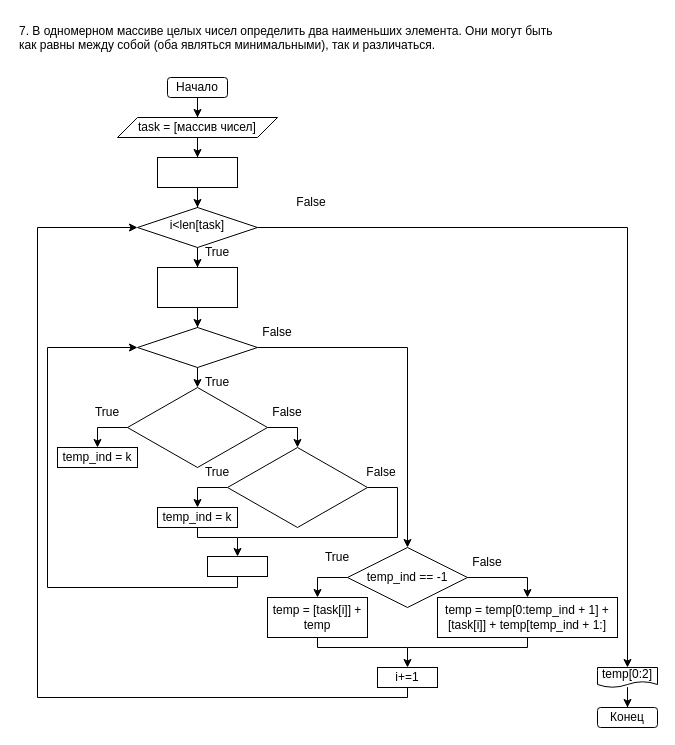
Some shapes in this 675 by 745 pixel diagram are drawn without their labels. Here are the shapes that lost their labels. From the top down, the box of each, then its label:
(156, 156, 238, 188): temp = [ ] i=0
(156, 266, 238, 308): temp_ind = -1 k=0
(136, 326, 258, 368): k<len[temp]
(126, 386, 268, 468): temp[k] <= task[i] and temp_ind == -1
(226, 446, 368, 528): temp[temp_ind] <= temp[k] <= task[i]
(206, 556, 268, 576): k+=1
